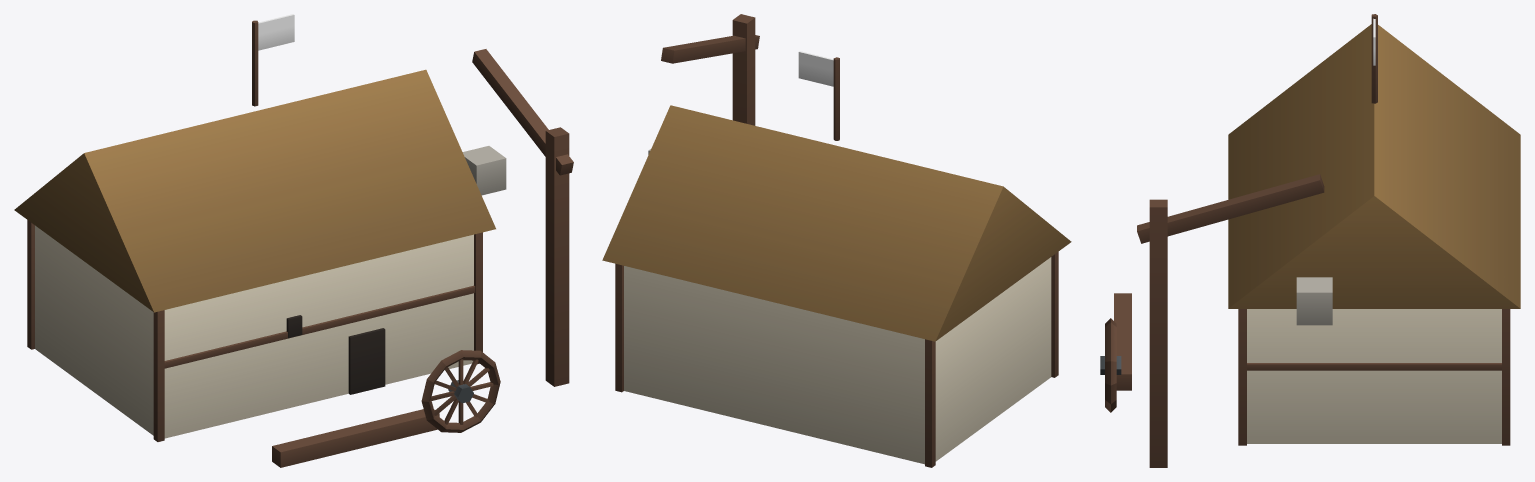
File: WAR_NE.glb
3 views of the same model, side by side, from view 1: azimuth 30°, elevation 25°; view 2: azimuth 150°, elevation 25°; view 3: azimuth 270°, elevation 25° (orthographic). The views are drawn at different scales.
Visible parts, largest first — view 1: Body, Wheel_parts, Flag; view 2: Body, Flag; view 3: Body, Wheel_parts.
Boxes of the visible parts, box(x1,y1,x2,y2) form: Body: box(14, 20, 573, 467); Wheel_parts: box(421, 350, 500, 432); Flag: box(258, 14, 294, 50); Body: box(602, 14, 1071, 467); Flag: box(798, 51, 833, 86); Body: box(1114, 14, 1520, 467); Wheel_parts: box(1100, 318, 1121, 412).
Size of the model in its own units: 3.87 by 3.25 by 3.51.
Materials: 1 (1 with a texture image).
